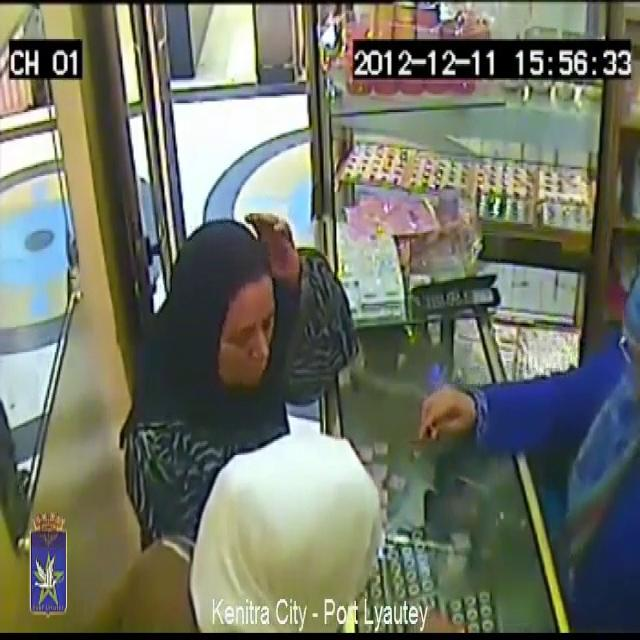Product: (422, 406, 438, 451)
normal: (159, 399, 391, 640), (173, 185, 290, 402)
shoplifting: (392, 160, 640, 628)
